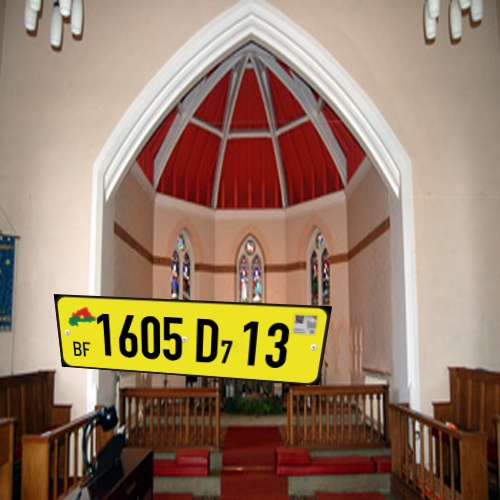plate: (47, 287, 344, 402)
